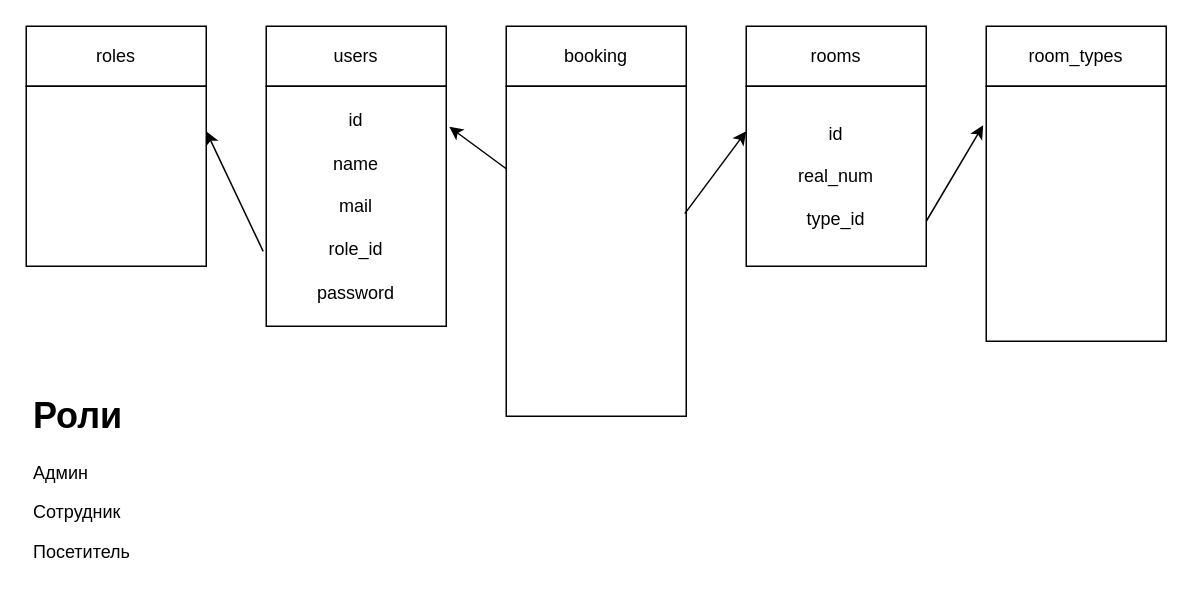
Some shapes in this 1193 by 593 pixel diagram are drawn without their labels. Each missing label, with the centre of its shape:
"id name description" goes at (x=115, y=175).
"id name description cost_per_night max_visitors_count" goes at (x=1075, y=213).
"id user_id room_id date_start date_end status visitors_count" goes at (x=595, y=250).
